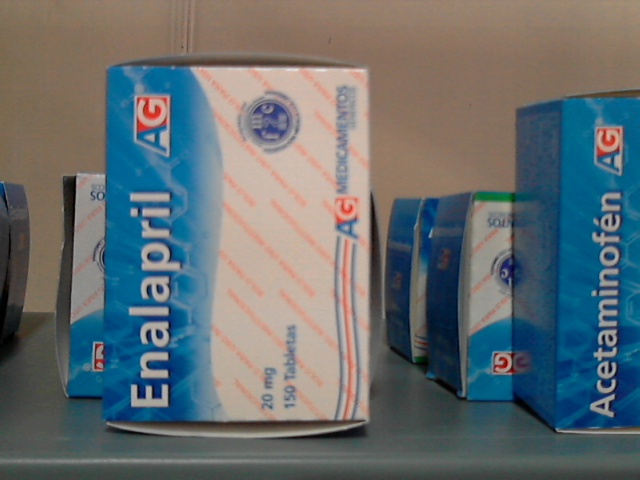AG: (104, 70, 371, 421)
